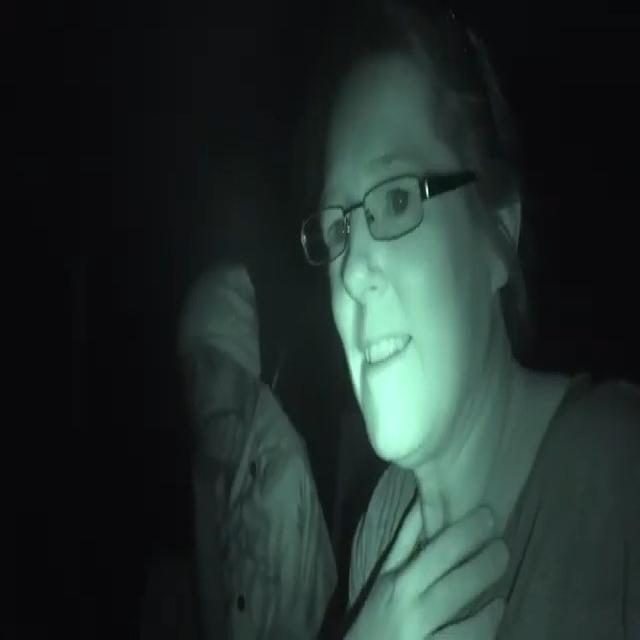human: (292, 2, 639, 640), (146, 254, 352, 640)
